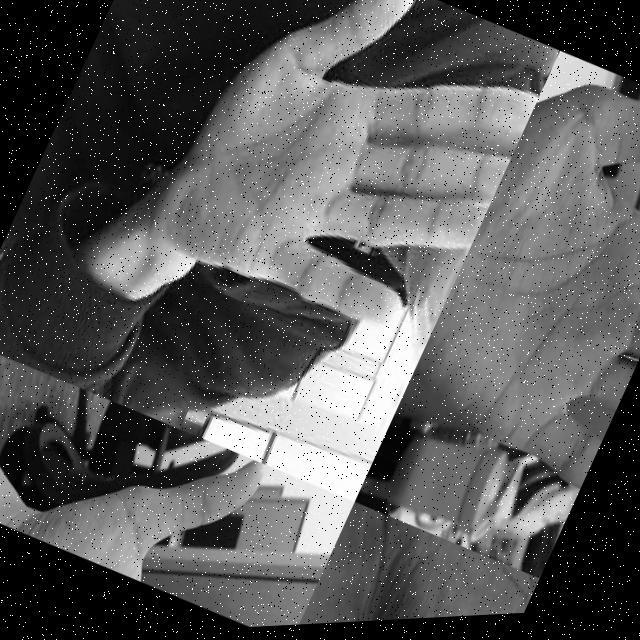no-gloves: (135, 0, 560, 373), (394, 53, 640, 504), (0, 366, 355, 640), (307, 505, 540, 627)
